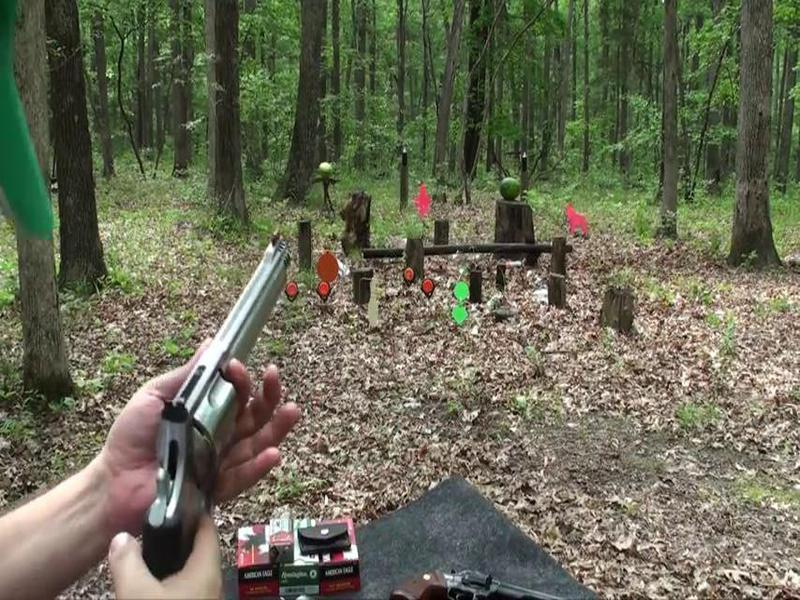Revolver: (148, 214, 317, 588)
